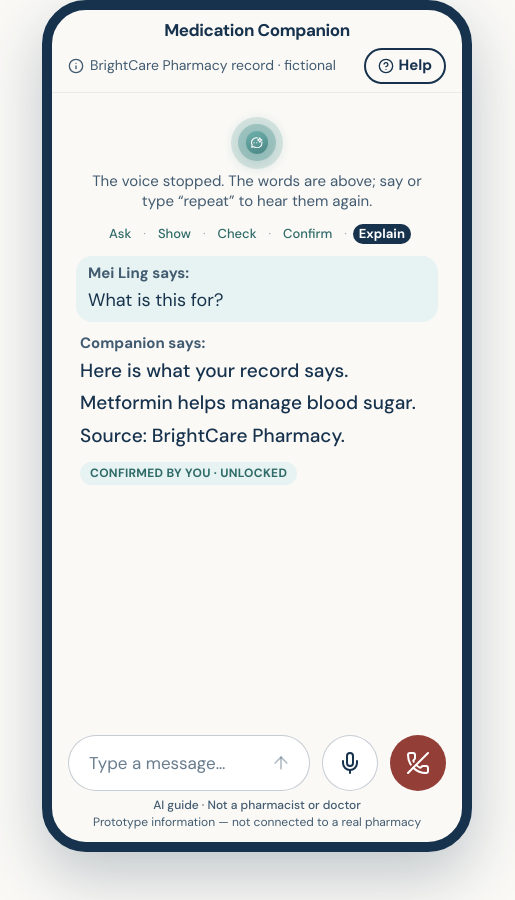
Scenario: in the call › 'what should the next dosage be?' gets a real answer in the transcript, and the explanation doesn't move
This screenshot has width=515, height=900.
In the field labelled "Type a message…": (171, 763) [89,736,253,790], type "what should the next dosage be?"
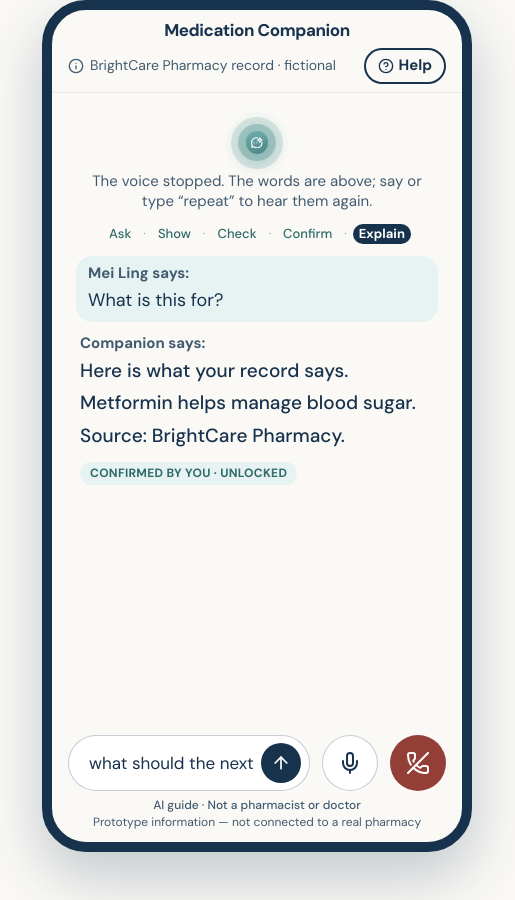
Submit the form named "type a message", box [68,735,310,791]
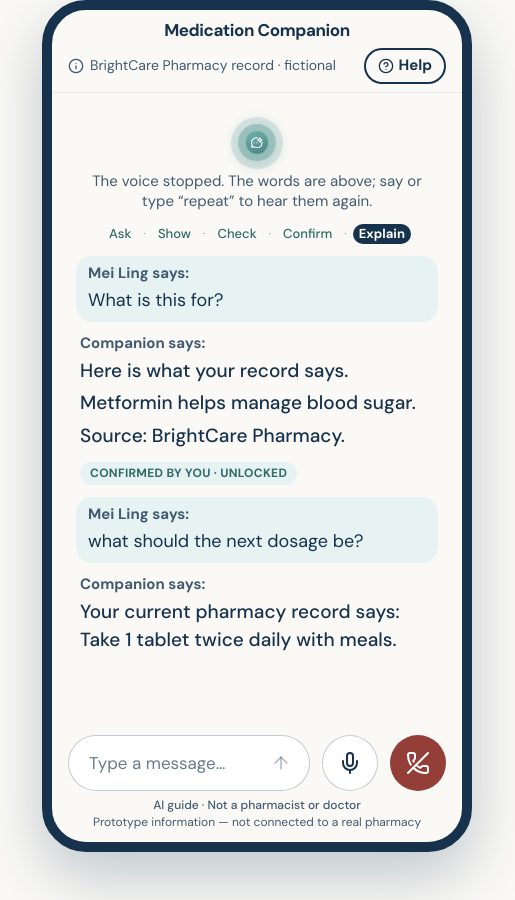
Expected: the text "Your current pharmacy record says: Take 1 tablet twice daily with meals." is shown, [80,598,434,654]
